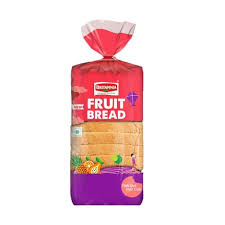bread: (66, 19, 147, 209)
